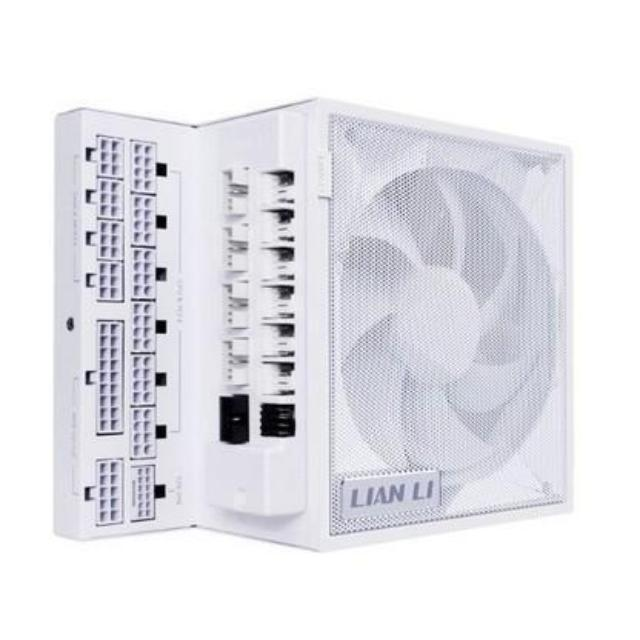PSU: (39, 90, 586, 576)
